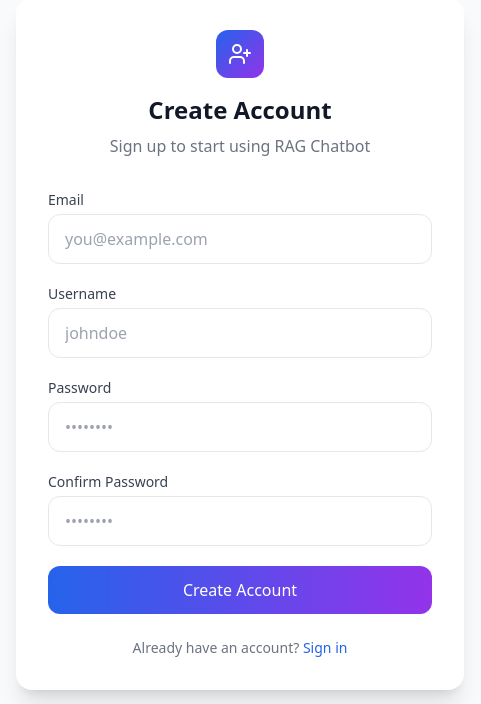
it: shows password strength indicator on input
Type "abc" into the 1st password field with placeholder "••••••••".
click(240, 427); type("abc")  # box x1=48 y1=402 x2=432 y2=452
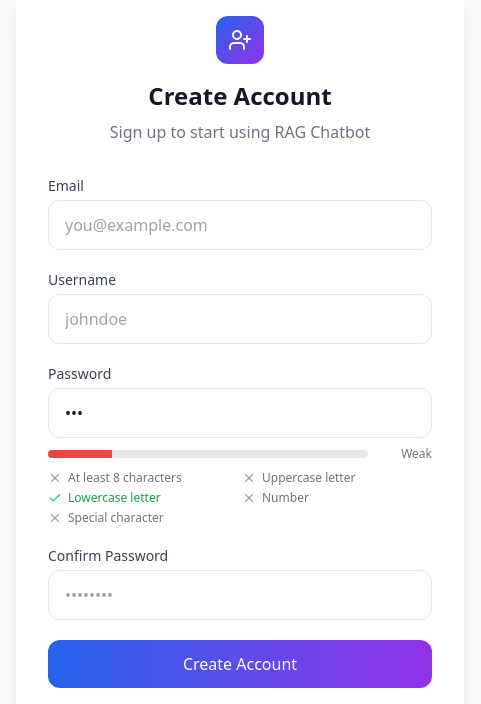
expect the text "Weak" is shown: met, box x1=401 y1=445 x2=432 y2=462
Type "StrongPass1!" into the password field with placeholder "••••••••".
click(240, 413); type("StrongPass1!")  # box x1=48 y1=388 x2=432 y2=438
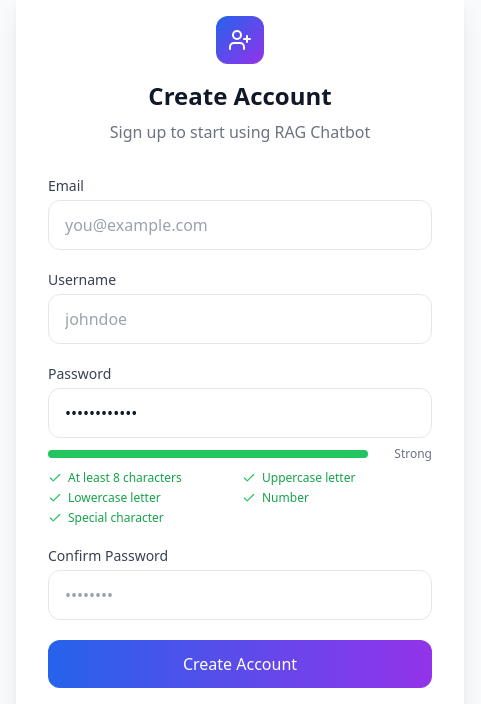
expect the text "Strong" is shown: met, box x1=394 y1=445 x2=432 y2=462
